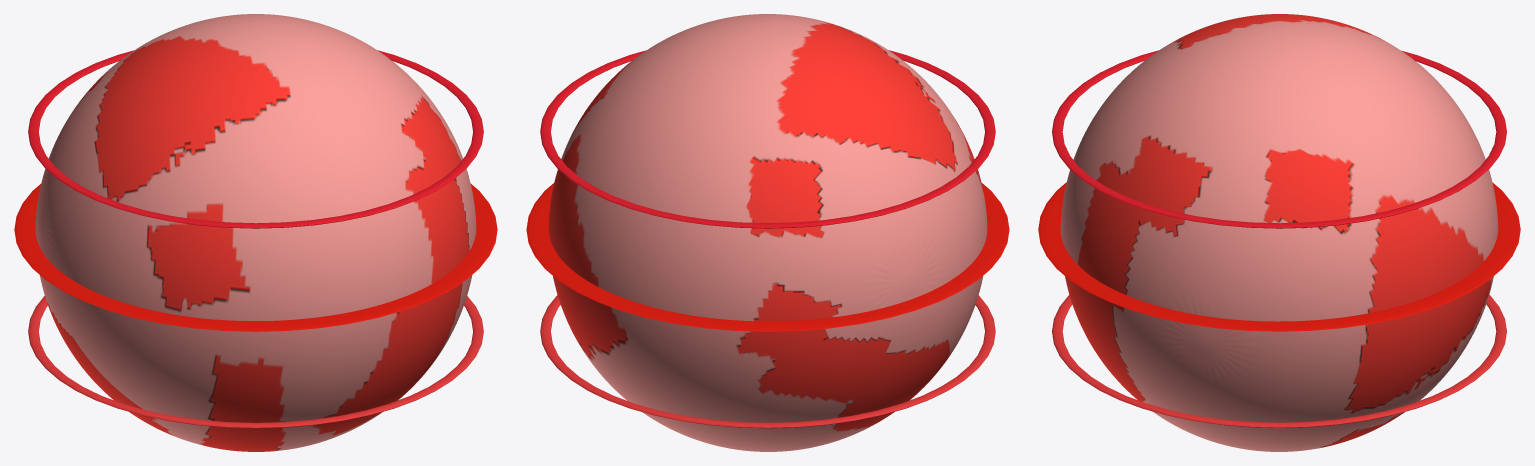
The model's file is AthenaPlanetV8.fbx.
3 renders of one model, left to right at view 1: azimuth 30°, elevation 25°; view 2: azimuth 150°, elevation 25°; view 3: azimuth 270°, elevation 25°, orthographic.
Parts seen in each view (by area): view 1: Sphere, Torus, Torus.001, Torus.002; view 2: Sphere, Torus, Torus.001, Torus.002; view 3: Sphere, Torus, Torus.001, Torus.002.
Part boxes in pixels (x1=…): Sphere: x1=35, y1=14, x2=476, y2=451; Torus: x1=14, y1=184, x2=497, y2=331; Torus.001: x1=28, y1=50, x2=483, y2=228; Torus.002: x1=28, y1=296, x2=483, y2=428; Sphere: x1=548, y1=14, x2=987, y2=451; Torus: x1=526, y1=182, x2=1009, y2=331; Torus.001: x1=540, y1=50, x2=995, y2=228; Torus.002: x1=540, y1=295, x2=995, y2=428; Sphere: x1=1060, y1=14, x2=1498, y2=451; Torus: x1=1038, y1=182, x2=1520, y2=331; Torus.001: x1=1052, y1=50, x2=1506, y2=228; Torus.002: x1=1052, y1=294, x2=1506, y2=427.
Bounding box in the file's own units: 3163 × 2867 × 3163.
4 materials, 1 textured.
